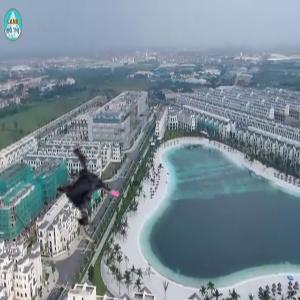drone: (36, 142, 138, 244)
